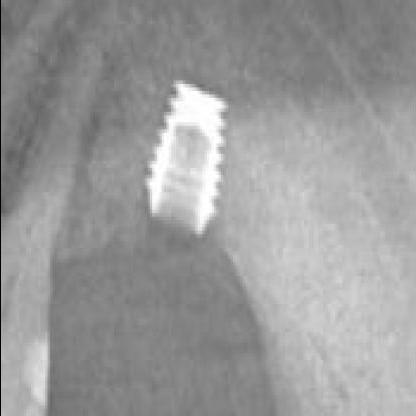Bicon: (143, 79, 233, 239)
